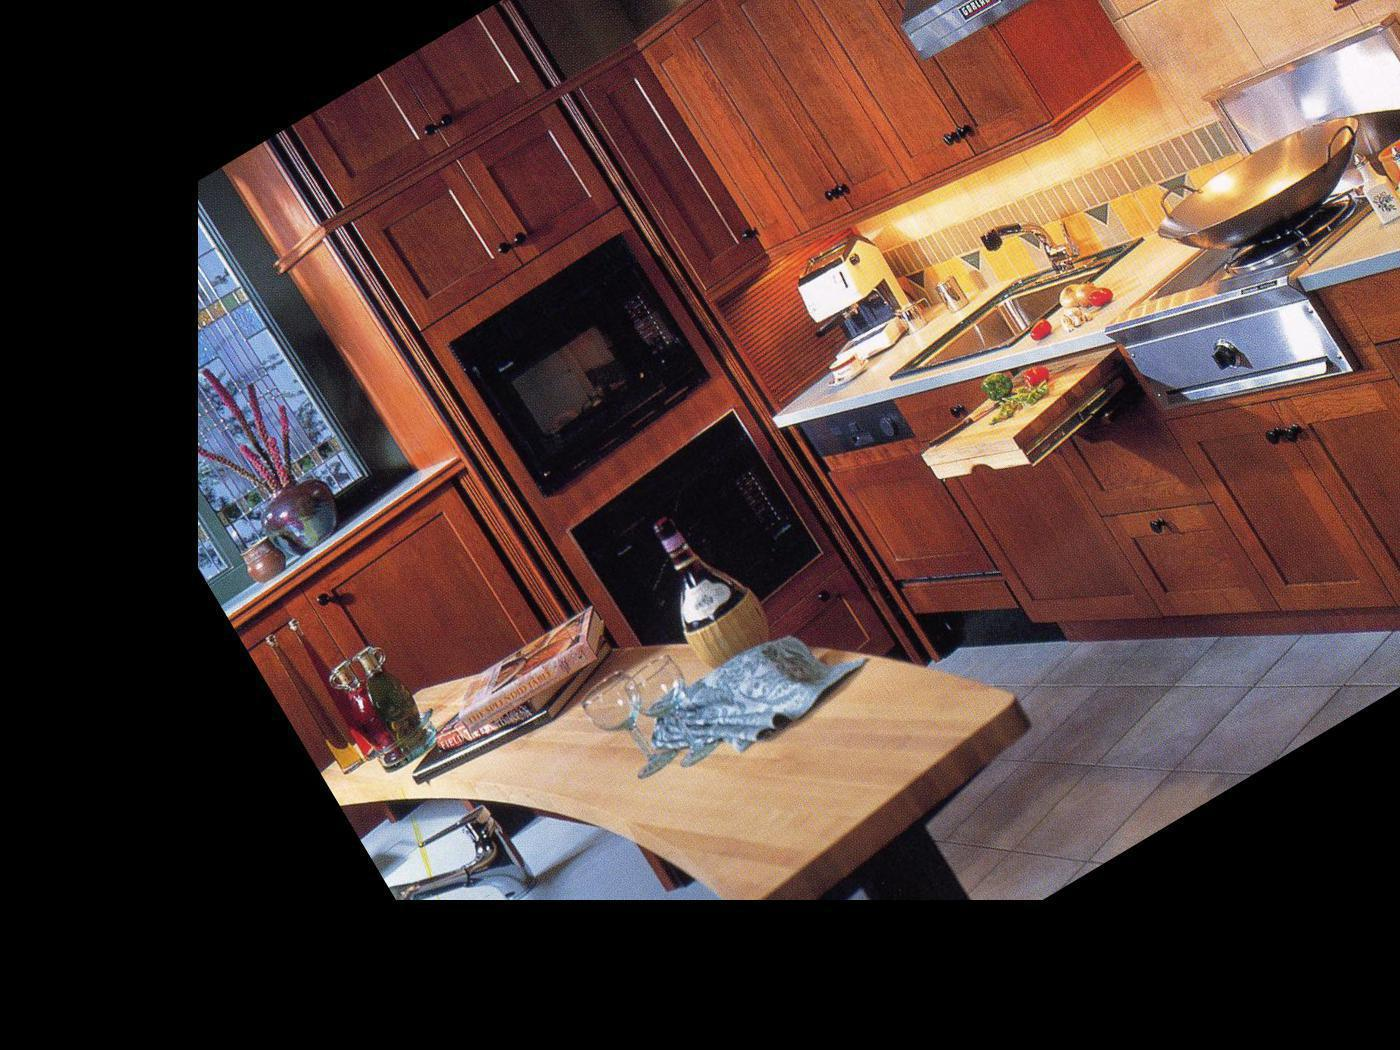Electrodomestico: (1105, 213, 1400, 695), (427, 226, 731, 515), (560, 392, 847, 675)
Lavaplatos: (849, 147, 1180, 424), (373, 776, 618, 1037)
